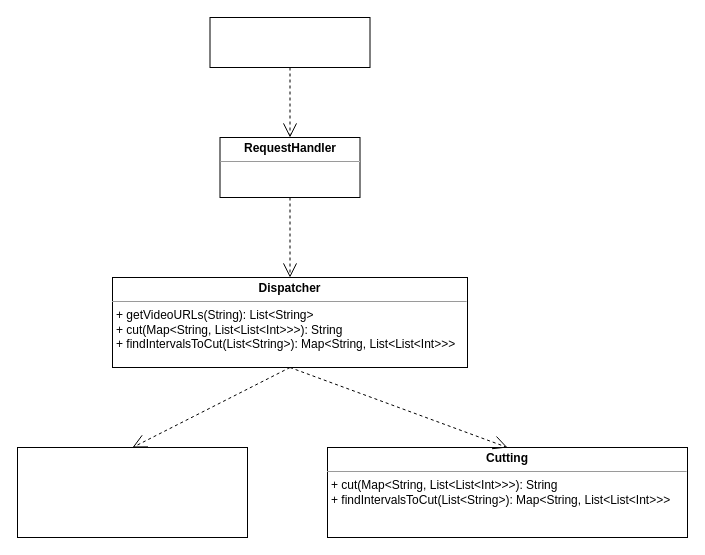
The diagram is 705 pixels wide and 555 high, and some of its shapes have lost their labels. Each missing label, with the centre of its shape:
"Client" goes at point (289, 42).
"GDrive + getVideoURLs(String): List<String>" goes at point (132, 492).
